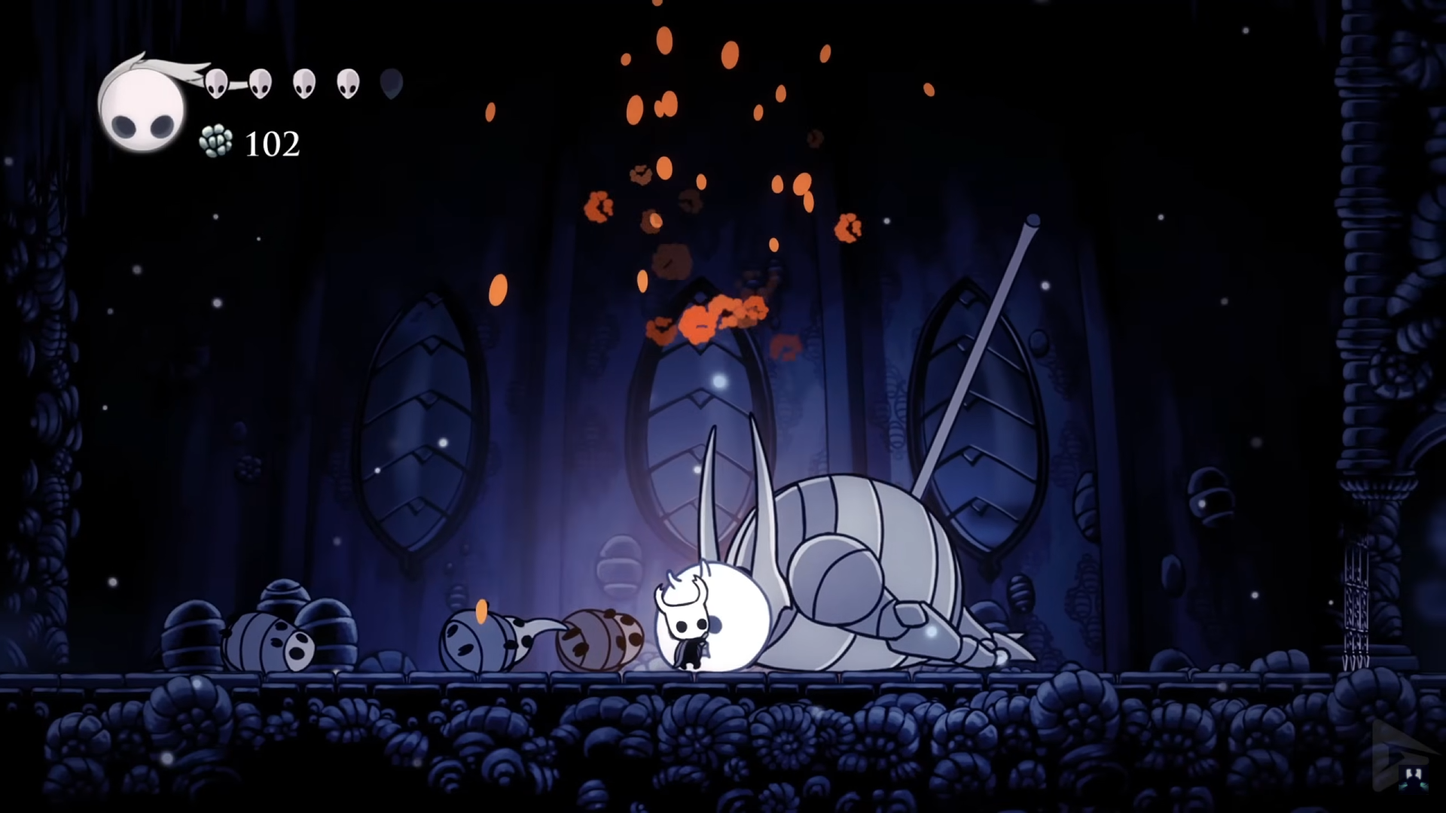HK: (651, 566, 715, 675)
